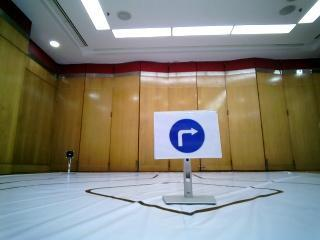right: (152, 112, 218, 158)
